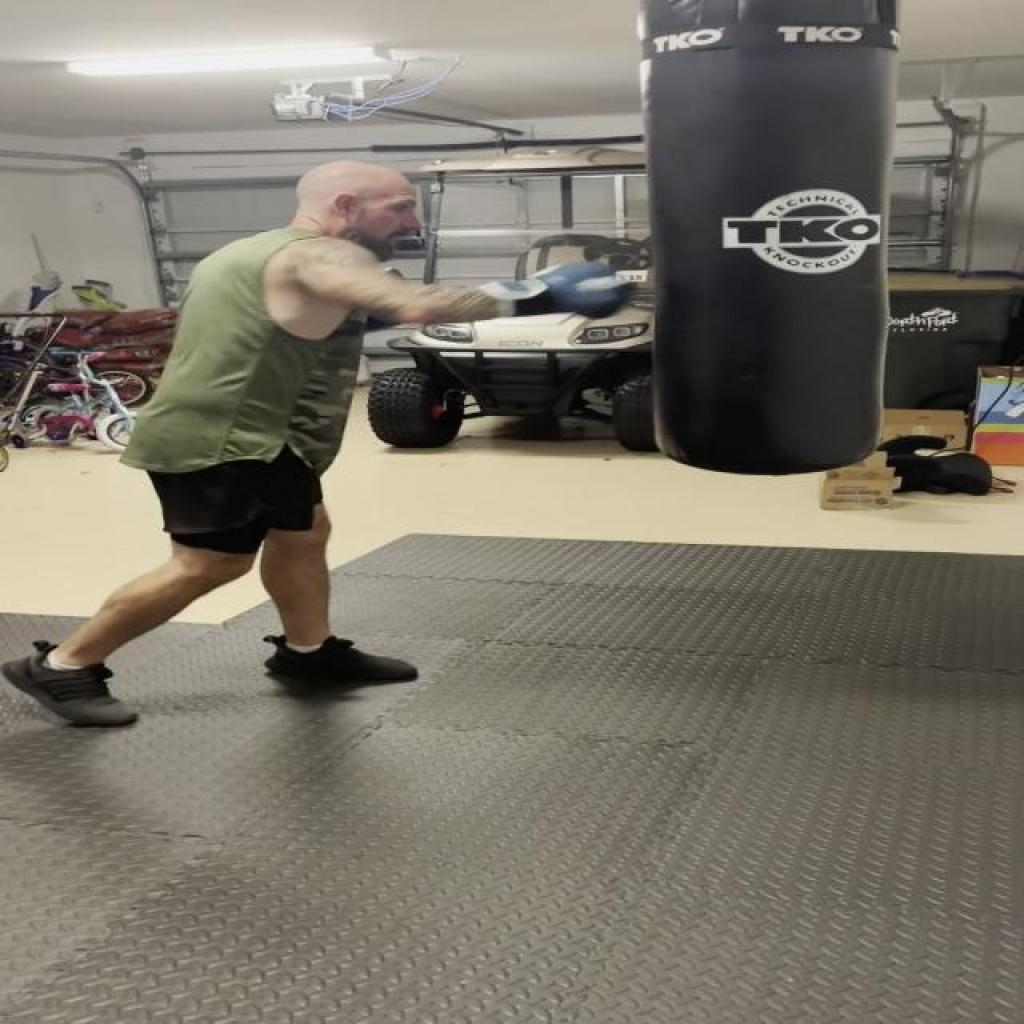bag: (632, 2, 925, 472)
cross: (162, 104, 682, 362)
